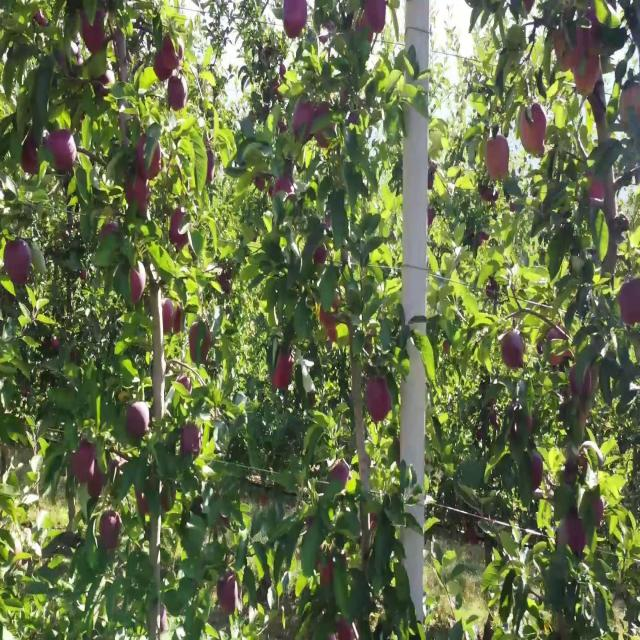apple: (72, 440, 105, 500), (572, 35, 601, 98), (44, 127, 76, 174), (520, 106, 548, 156), (156, 35, 184, 85), (4, 241, 32, 286), (136, 135, 163, 181), (72, 440, 99, 485), (368, 376, 392, 425), (488, 135, 512, 183), (84, 7, 107, 55), (552, 28, 575, 75), (500, 334, 525, 372), (320, 298, 341, 343), (284, 0, 308, 39), (620, 85, 640, 130), (100, 511, 122, 551), (572, 362, 595, 400), (364, 0, 388, 36), (564, 519, 588, 555), (620, 284, 640, 327), (20, 135, 40, 178), (128, 177, 150, 215), (272, 355, 295, 391), (316, 547, 336, 588), (548, 327, 568, 368), (220, 575, 239, 617), (128, 405, 150, 441), (312, 106, 330, 149), (192, 327, 212, 363), (168, 78, 187, 114), (88, 462, 105, 500), (464, 519, 486, 548), (172, 213, 188, 249), (272, 63, 288, 96), (184, 426, 202, 455), (356, 14, 374, 43), (588, 177, 607, 204), (272, 177, 295, 199), (296, 106, 313, 135), (132, 270, 144, 306), (532, 455, 544, 491), (332, 462, 349, 487), (336, 618, 355, 639), (136, 490, 150, 517), (160, 490, 176, 512), (100, 220, 117, 240), (164, 305, 175, 334), (480, 184, 495, 204), (596, 497, 605, 524), (316, 248, 328, 267), (220, 277, 232, 293), (180, 376, 192, 391), (176, 312, 184, 334), (44, 341, 60, 352), (36, 14, 48, 28), (256, 177, 267, 192), (260, 490, 268, 507), (372, 511, 377, 533), (72, 348, 79, 363)
